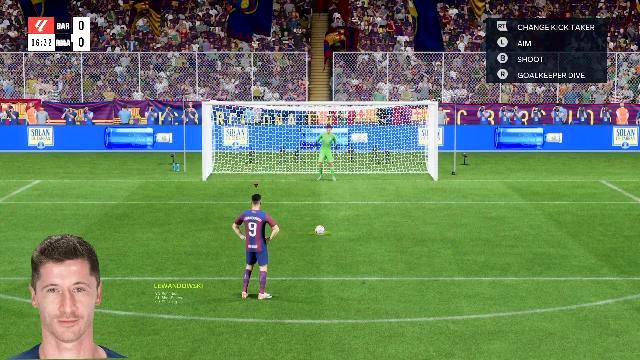bottom-left: (206, 148, 290, 180)
bottom-right: (360, 148, 432, 180)
center-down: (290, 148, 362, 180)
center-up: (299, 106, 357, 148)
circle: (310, 232, 332, 234)
football: (313, 226, 327, 234)
goalkeeper: (308, 126, 354, 182)
player: (229, 196, 281, 302)
top-left: (207, 104, 295, 146)
top-right: (359, 104, 435, 146)
